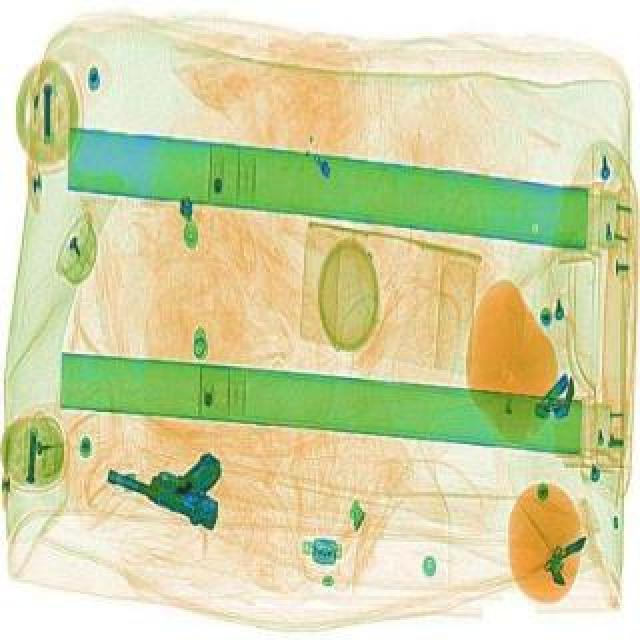gun: (96, 440, 230, 530)
